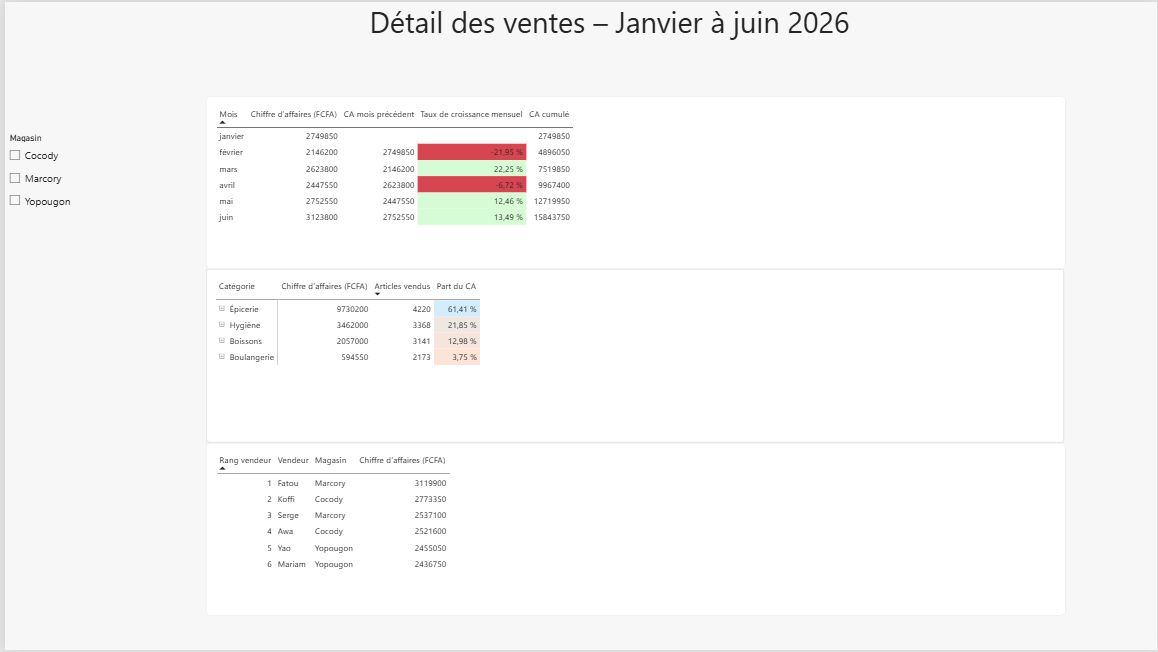

Layout of this report page (visuals, bound fields, positions):
{"tool":"powerbi","page":{"name":"Détail","canvas":[1920,1080],"ordinal":1},"visuals":[{"type":"tableEx","fields":{"Values":["Calendrier.Mois","_Mesures.Chiffre d’affaires (FCFA)","_Mesures.CA mois précédent","_Mesures.Taux de croissance mensuel","_Mesures.CA cumulé"]},"box":[335,157.5,1432.5,287.5],"z":0},{"type":"tableEx","fields":{"Values":["_Mesures.Rang vendeur","Ventes.Vendeur","Ventes.Magasin","_Mesures.Chiffre d’affaires (FCFA)"]},"box":[335,735,1432.5,287.5],"z":1000},{"type":"pivotTable","fields":{"Rows":["Ventes.Catégorie","Ventes.Produit"],"Values":["_Mesures.Chiffre d’affaires (FCFA)","_Mesures.Articles vendus","_Mesures.Part du CA"]},"box":[334,446.2,1431.5,288.7],"z":2000},{"type":"slicer","fields":{"Values":["Ventes.Magasin"]},"box":[0,217.1,357.9,229],"z":3000},{"type":"textbox","box":[608.4,0,827.9,109.8],"z":4000}]}

Visuals, with their boxes in screenshot pixels (x1, y1, x2, y2), scaled from the page's 1920x1080 canvas onto the 1158x652 screenshot:
tableEx - Calendrier.Mois x _Mesures.Chiffre d’affaires (FCFA): bbox=(202, 95, 1066, 269)
tableEx - _Mesures.Rang vendeur x Ventes.Vendeur: bbox=(202, 444, 1066, 617)
pivotTable - Ventes.Catégorie x Ventes.Produit: bbox=(201, 269, 1065, 444)
slicer - Ventes.Magasin: bbox=(0, 131, 216, 269)
textbox: bbox=(367, 0, 866, 66)
